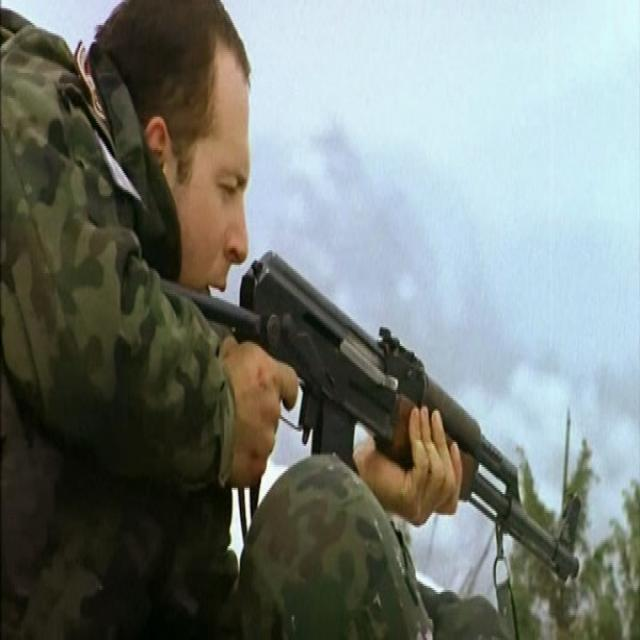rifle: (157, 244, 585, 592)
